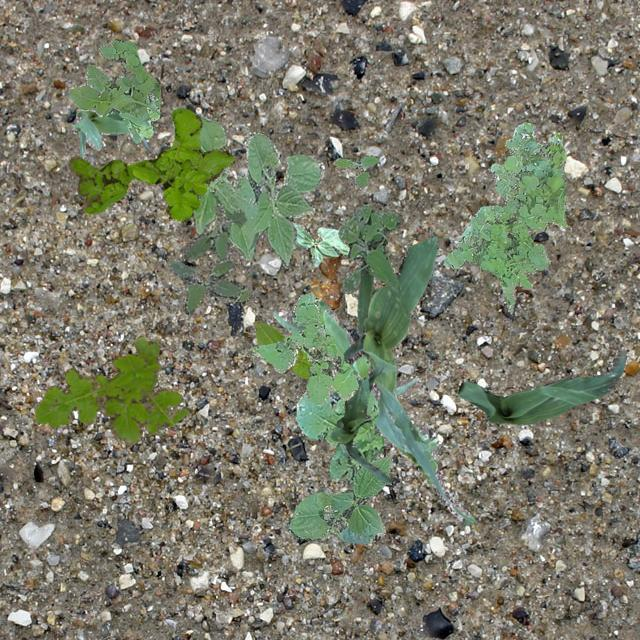crop: (342, 235, 474, 524), (272, 298, 442, 454), (192, 113, 324, 264), (457, 348, 626, 423), (284, 454, 392, 544), (328, 366, 391, 484), (70, 108, 150, 160), (252, 320, 312, 378), (290, 222, 348, 266)
weed: (444, 121, 566, 312), (68, 108, 234, 220), (32, 334, 186, 444), (248, 292, 358, 404), (294, 362, 382, 488), (66, 38, 160, 142), (168, 202, 248, 314), (338, 200, 402, 292), (332, 154, 378, 192)
